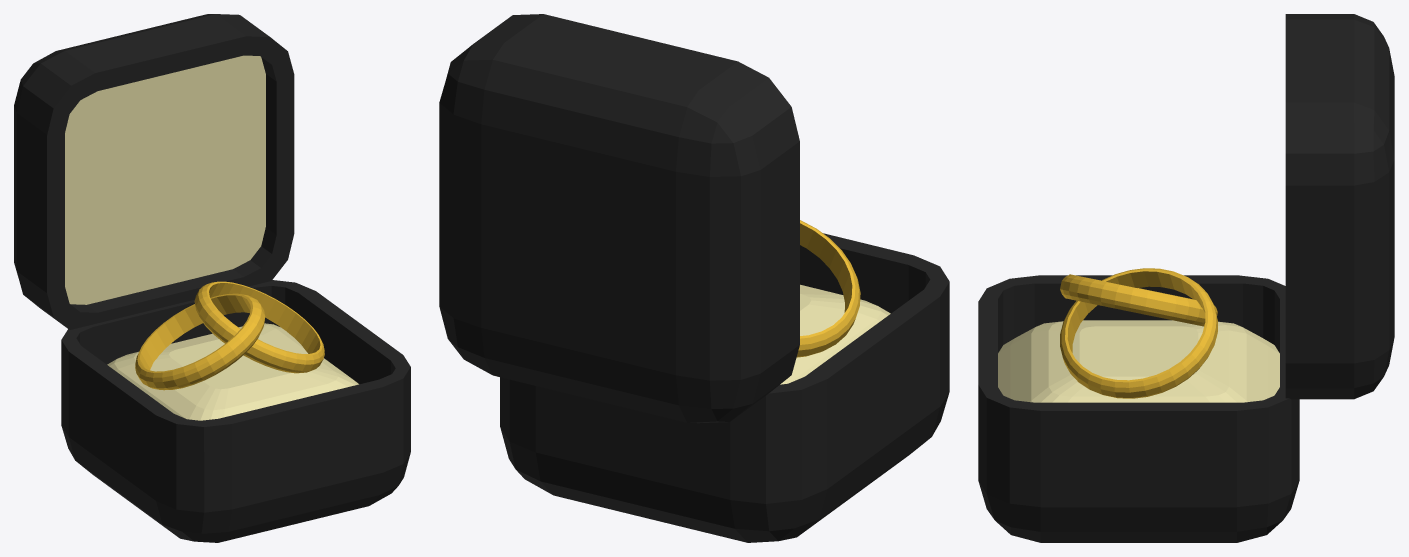
File: Alianca.fbx
3 renders of one model, left to right at view 1: azimuth 30°, elevation 25°; view 2: azimuth 150°, elevation 25°; view 3: azimuth 270°, elevation 25°, orthographic. The views are drawn at different scales.
Visible parts, largest first — view 1: Cube.001, Cube, Cylinder, Cylinder.001; view 2: Cube.001, Cube, Cylinder; view 3: Cube, Cube.001, Cylinder.001, Cylinder.
Boxes of the visible parts, box(x1,y1,x2,y2) form: Cube.001: box(14, 14, 294, 329); Cube: box(61, 280, 410, 542); Cylinder: box(135, 293, 265, 390); Cylinder.001: box(194, 281, 324, 373); Cube.001: box(439, 14, 799, 423); Cube: box(500, 233, 949, 542); Cylinder: box(796, 220, 860, 357); Cube: box(978, 275, 1299, 542); Cube.001: box(1285, 14, 1394, 399); Cylinder.001: box(1060, 268, 1217, 398); Cylinder: box(1060, 274, 1217, 326).
Size of the model in its own units: 200 by 299 by 259.
